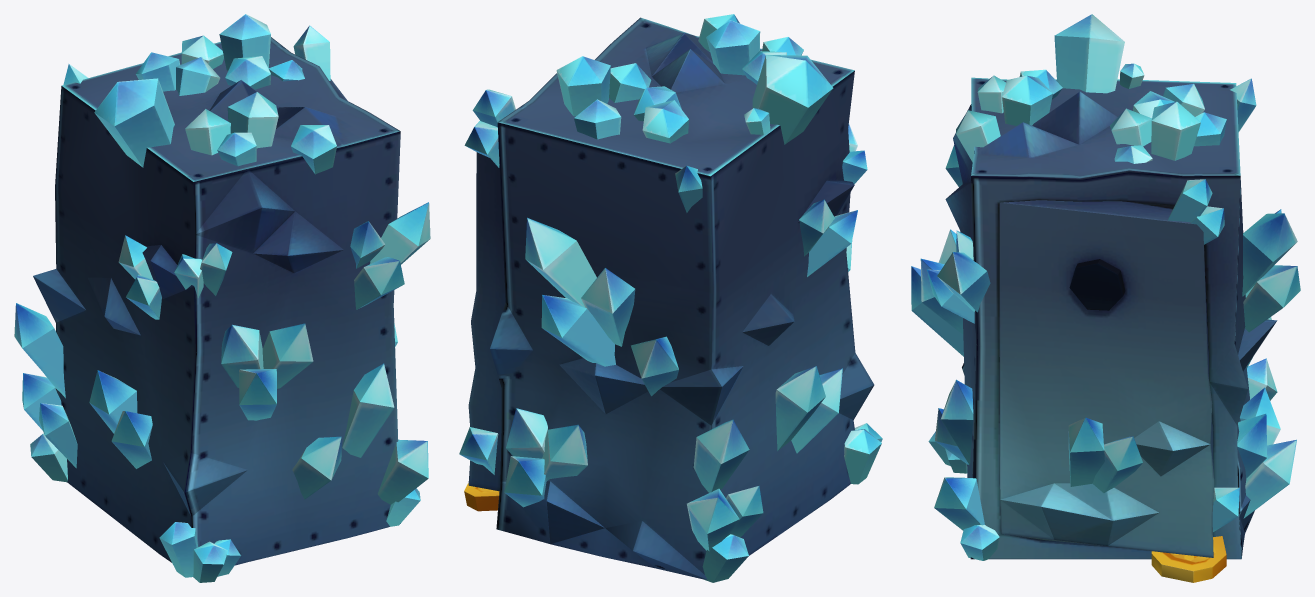
Rendered from Vault Crystal.obj.
3 renders of one model, left to right at view 1: azimuth 30°, elevation 25°; view 2: azimuth 150°, elevation 25°; view 3: azimuth 270°, elevation 25°, orthographic. The views are drawn at different scales.
Parts seen in each view (by area): view 1: VaultCrystal1; view 2: VaultCrystal1; view 3: VaultCrystal1.
Part boxes in pixels (bbox=[...]): VaultCrystal1: bbox=[14, 14, 430, 582]; VaultCrystal1: bbox=[459, 14, 882, 582]; VaultCrystal1: bbox=[911, 14, 1300, 582].
Size of the model in its own units: 8.99 by 13.14 by 10.55.
Materials: 1 (1 with a texture image).
